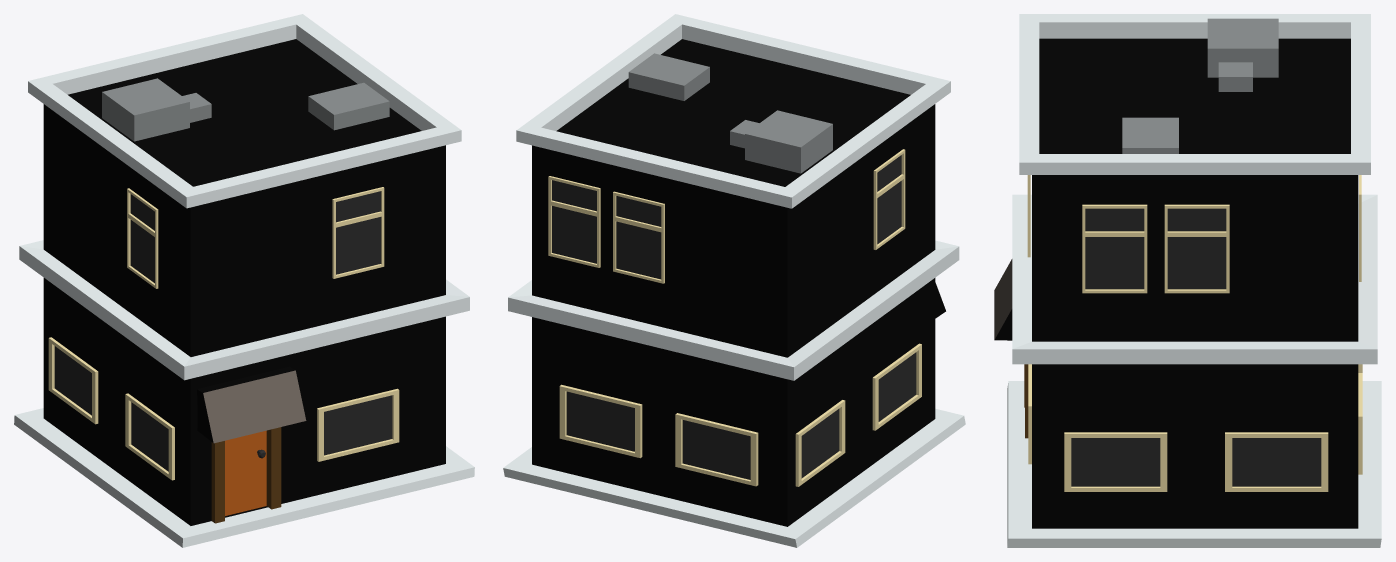
Rendered from building3.glb.
3 renders of one model, left to right at view 1: azimuth 30°, elevation 25°; view 2: azimuth 150°, elevation 25°; view 3: azimuth 270°, elevation 25°, orthographic. The views are drawn at different scales.
Parts seen in each view (by area): view 1: Cube_0; view 2: Cube_0; view 3: Cube_0.
Part boxes in pixels (x1,y1,x2,y2): Cube_0: [14, 14, 474, 547]; Cube_0: [503, 14, 965, 547]; Cube_0: [994, 14, 1381, 547].
Bounding box in the file's own units: 9.18 × 10.67 × 9.5.
